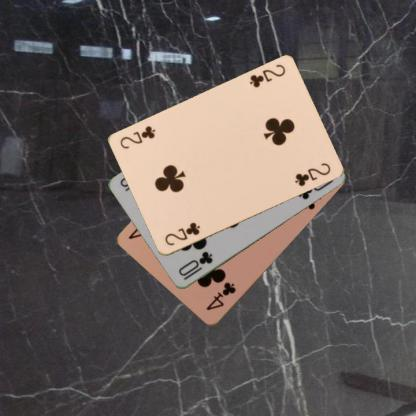10c: (176, 249, 214, 282)
2c: (246, 62, 286, 89), (162, 220, 201, 247)
4c: (203, 280, 237, 312)
